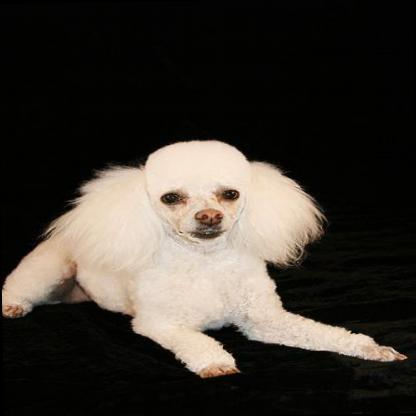miniature_poodle: (0, 131, 408, 378)
